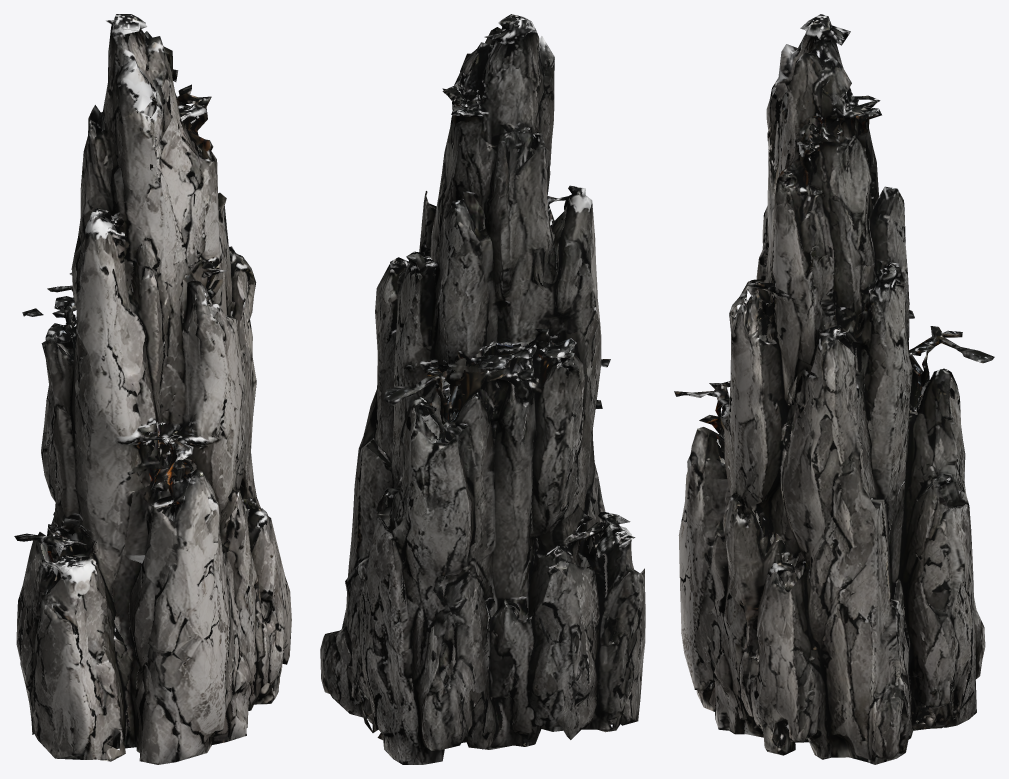
Rendered from InkPart01_MainPeak.fbx.
3 renders of one model, left to right at view 1: azimuth 30°, elevation 25°; view 2: azimuth 150°, elevation 25°; view 3: azimuth 270°, elevation 25°, orthographic. The views are drawn at different scales.
Parts seen in each view (by area): view 1: texture_mapping; view 2: texture_mapping; view 3: texture_mapping.
Boxes of the visible parts, x1,y1,x2,y2 form: texture_mapping: (14, 14, 291, 764); texture_mapping: (320, 14, 645, 764); texture_mapping: (674, 14, 994, 764).
Bounding box in the file's own units: 0.3926 × 0.4235 × 0.9912.
Materials: 1 (1 with a texture image).
